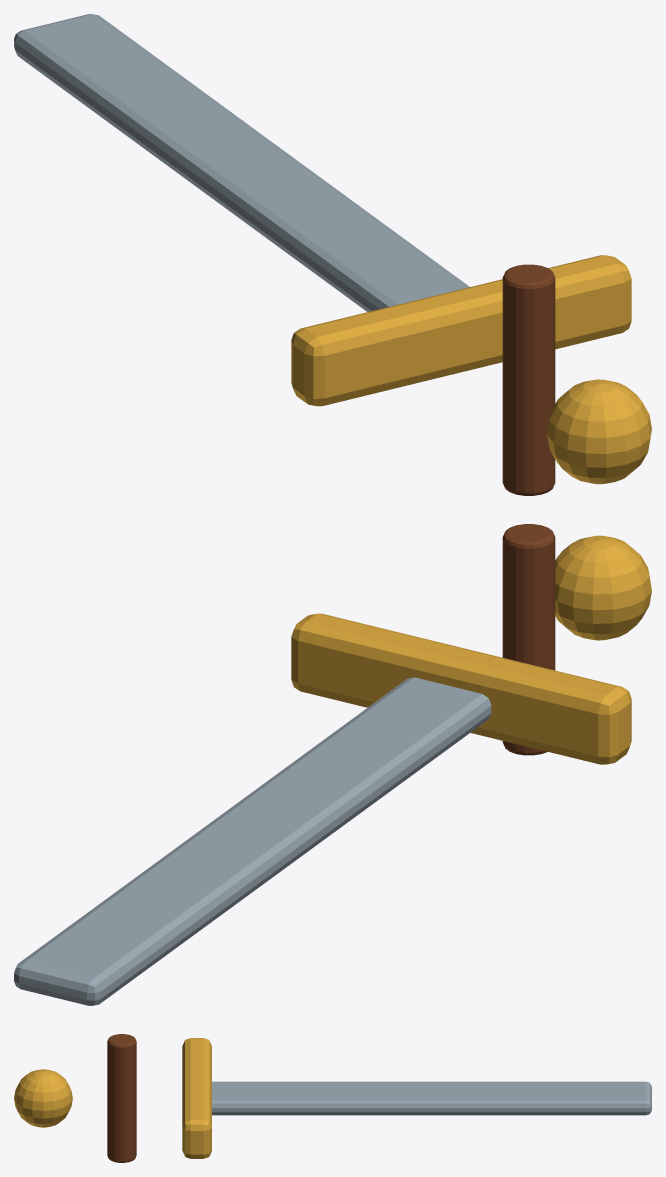
The model's file is sword.glb.
3 renders of one model, top to bottom at view 1: azimuth 30°, elevation 25°; view 2: azimuth 150°, elevation 25°; view 3: azimuth 270°, elevation 25°, orthographic. The views are drawn at different scales.
Visible parts, largest first — view 1: Blade, Crossguard, Grip, Pommel; view 2: Blade, Crossguard, Pommel, Grip; view 3: Blade, Grip, Crossguard, Pommel.
Part boxes in pixels (box(x1,y1,x2,y2)): Blade: box(14, 14, 469, 311); Crossguard: box(291, 255, 631, 406); Grip: box(502, 264, 555, 495); Pommel: box(547, 379, 651, 484); Blade: box(14, 677, 491, 1005); Crossguard: box(291, 613, 631, 764); Pommel: box(555, 535, 651, 640); Grip: box(502, 524, 555, 755); Blade: box(212, 1081, 651, 1115); Grip: box(107, 1034, 136, 1162); Crossguard: box(182, 1038, 211, 1158); Pommel: box(14, 1069, 72, 1127).
Bounding box in the file's own units: 0.64 × 0.4 × 1.95.
